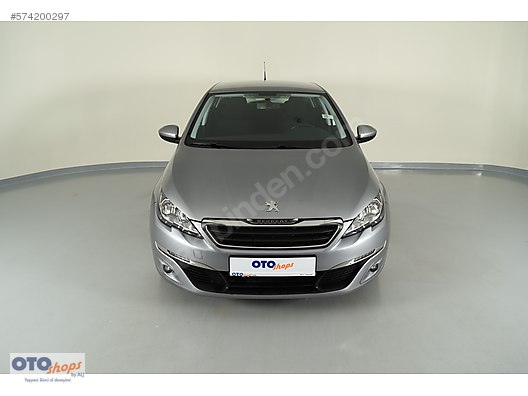peugeot: (145, 75, 394, 307)
